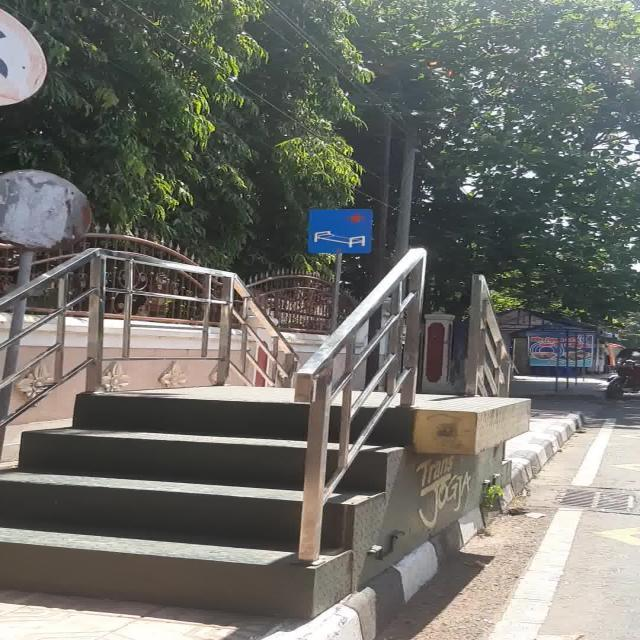Rumah Sakit: (308, 209, 372, 254)
